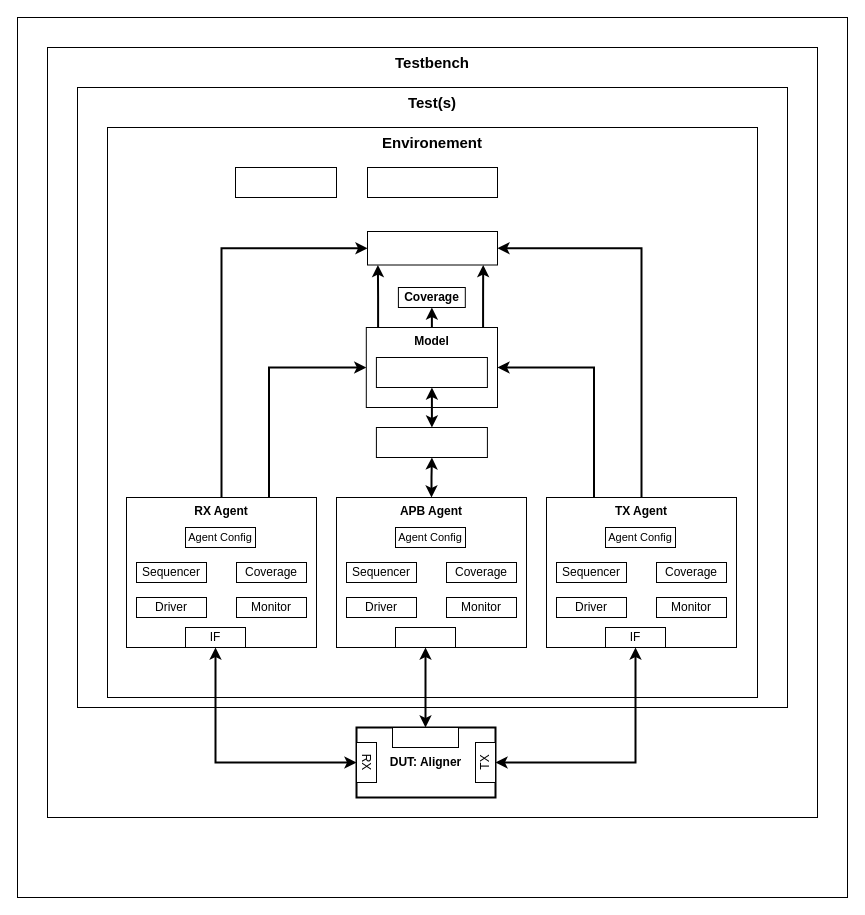
Some shapes in this 865 by 915 pixel diagram are drawn without their labels. Here are the shapes that lost their labels. From the top down, the centre of each, then its label:
point (285, 182): Configuration
point (432, 182): Virtual Sequencer
point (432, 247): Scoreboard
point (431, 372): Register Model
point (431, 442): Predictor
point (425, 637): APB IF
point (425, 737): Reg Access
